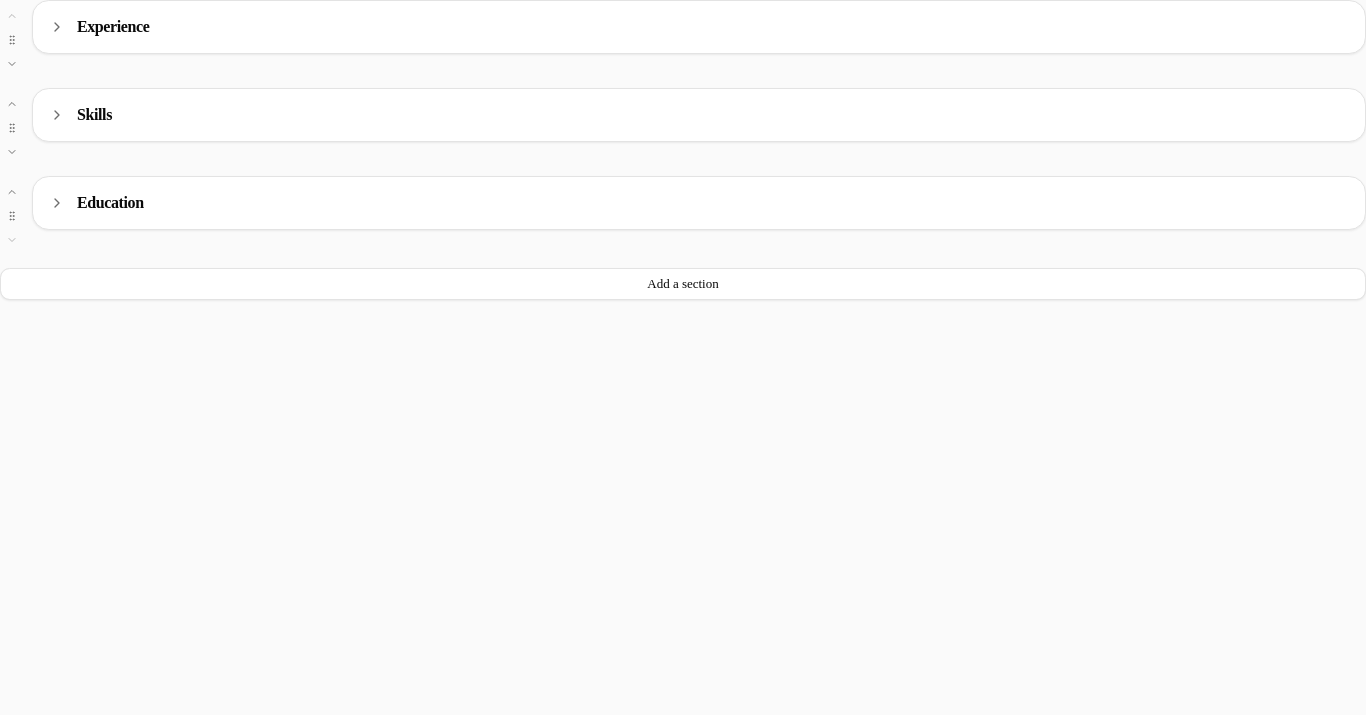
deleting › counts what an entry takes with it
The width and height of the screenshot is (1366, 715).
Click the button "Experience" at point(113, 26), box top-left (33, 1), bottom-right (1365, 53)
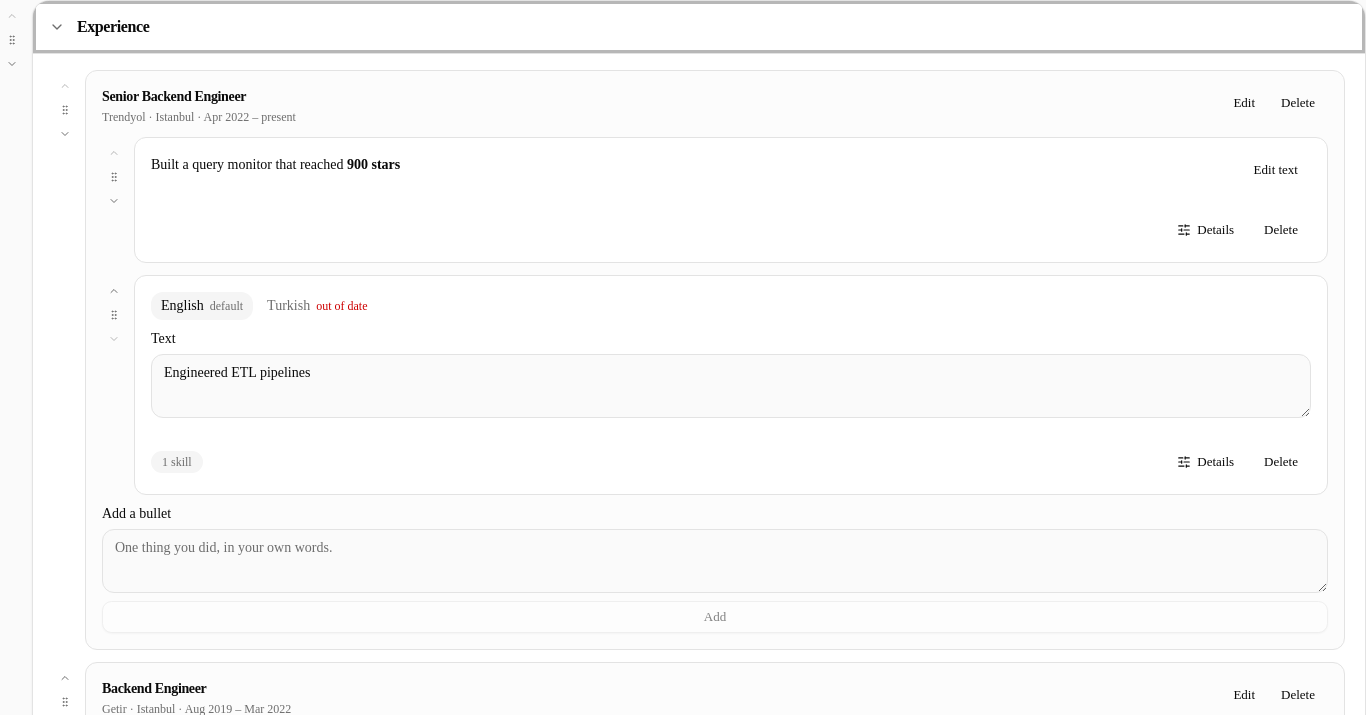
Click the button with aria-label "Delete the entry Senior Backend Engineer" at point(1298, 103), box top-left (1268, 87), bottom-right (1328, 119)
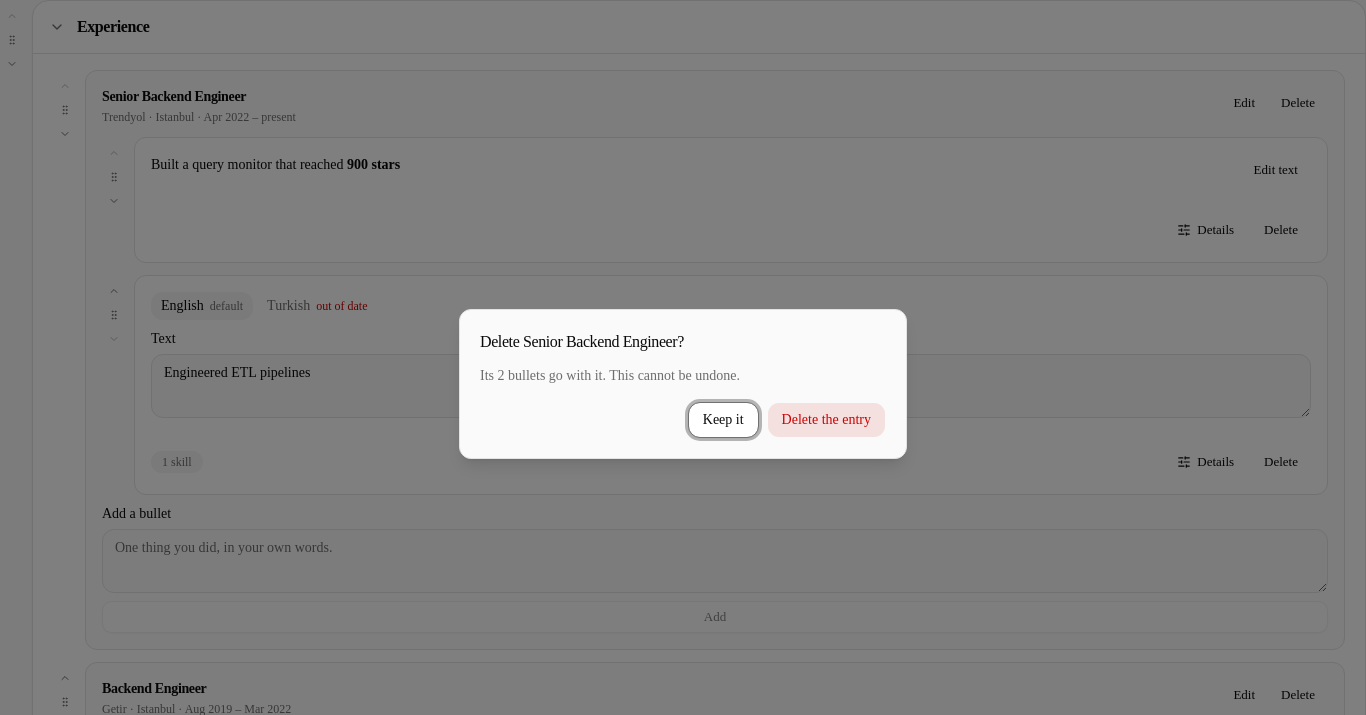
Expected: the text "Its 2 bullets go with it. This cannot be undone." is shown, top-left (480, 368), bottom-right (740, 383)
